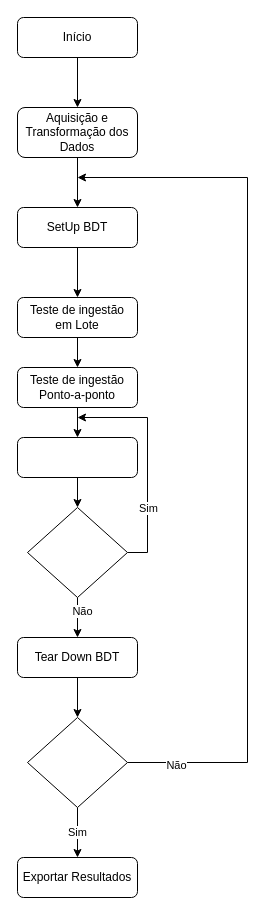
Image size: 273x915. Some labels were removed from this diagram. The box of each missing label's shape, as (x1, y1, x2, y2) in pixels:
iterações < X: (26, 506, 128, 598)
Teste de Consulta: (16, 436, 138, 478)
Todos BDTs?: (26, 716, 128, 808)
